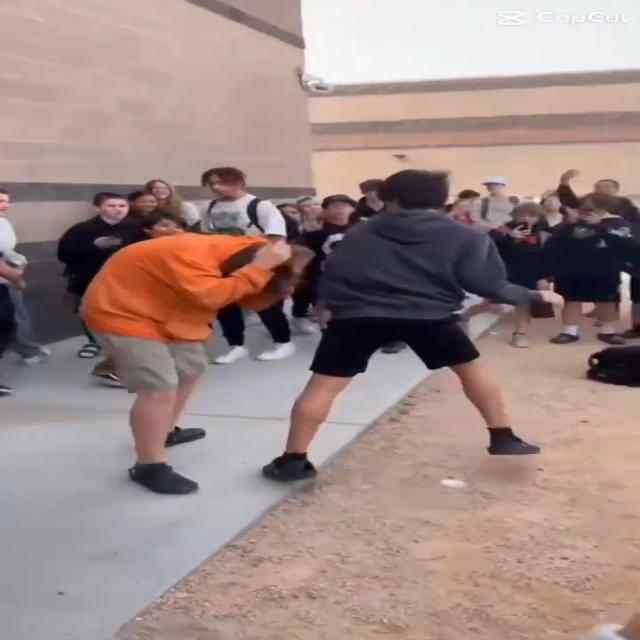fight: (75, 168, 566, 506)
